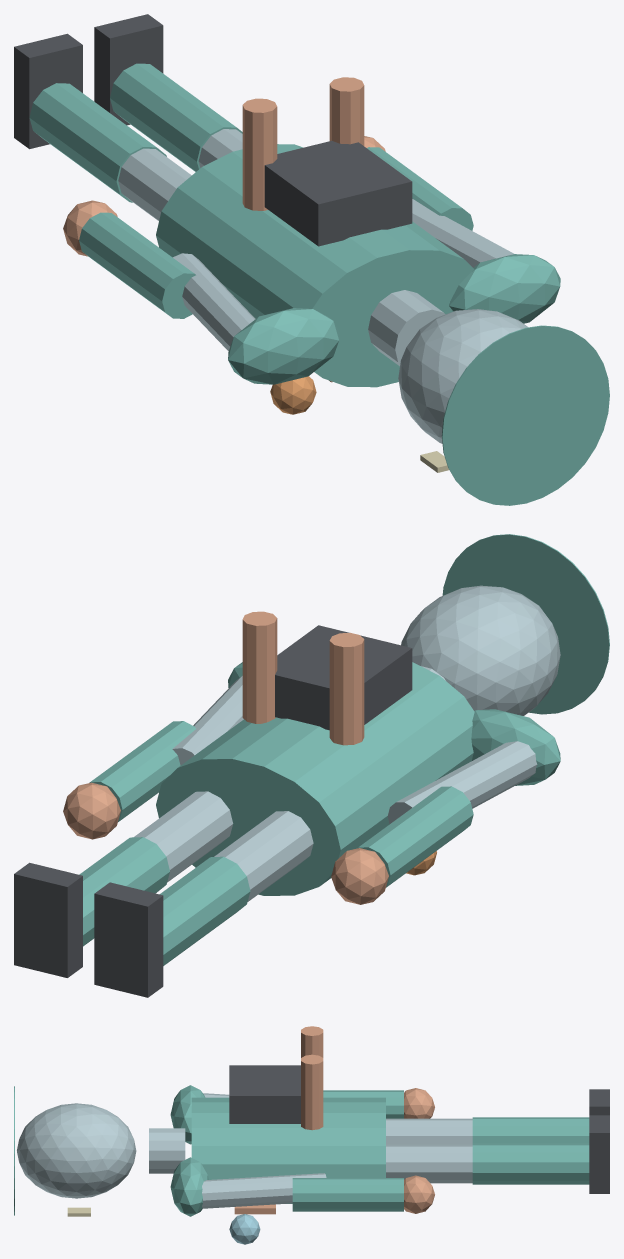
File: SWN-035_jun_glasswake.glb
3 views of the same model, one above another, from view 1: azimuth 30°, elevation 25°; view 2: azimuth 150°, elevation 25°; view 3: azimuth 270°, elevation 25° (orthographic). The views are drawn at different scales.
Visible parts, largest first — view 1: body_spine, rank_halo_ring, back_thruster_pack, head, greave_-1, greave_1, shoulder_plate_-1, forearm_gauntlet_-1, shoulder_plate_1, boot_-1, boot_1, upper_arm_-1 (+9 smaller); view 2: body_spine, head, rank_halo_ring, back_thruster_pack, boot_-1, boot_1, greave_-1, forearm_gauntlet_-1, thigh_1, thigh_-1, upper_arm_-1, forearm_gauntlet_1 (+7 smaller); view 3: body_spine, head, greave_1, back_thruster_pack, forearm_gauntlet_1, thigh_1, greave_-1, upper_arm_1, thigh_-1, aether_thruster_1, boot_1, shoulder_plate_1 (+9 smaller).
Boxes of the visible parts, box(x1,y1,x2,y2) form: body_spine: box(156, 144, 474, 387); rank_halo_ring: box(441, 325, 609, 505); back_thruster_pack: box(264, 141, 412, 246); head: box(398, 309, 527, 443); greave_-1: box(29, 83, 166, 202); greave_1: box(110, 63, 242, 171); shoulder_plate_-1: box(228, 308, 339, 384); forearm_gauntlet_-1: box(79, 212, 195, 318); shoulder_plate_1: box(449, 254, 560, 323); boot_-1: box(14, 33, 82, 149); boot_1: box(94, 14, 163, 125); upper_arm_-1: box(173, 253, 255, 350); body_spine: box(156, 662, 474, 895); head: box(401, 585, 560, 715); rank_halo_ring: box(442, 534, 609, 714); back_thruster_pack: box(275, 625, 412, 730); boot_-1: box(94, 882, 163, 997); boot_1: box(14, 862, 82, 977); greave_-1: box(159, 856, 250, 965); forearm_gauntlet_-1: box(357, 786, 473, 887); thigh_1: box(134, 791, 233, 882); thigh_-1: box(214, 811, 313, 901); upper_arm_-1: box(387, 741, 537, 824); forearm_gauntlet_1: box(89, 721, 196, 821); body_spine: box(191, 1097, 385, 1203); head: box(17, 1103, 136, 1198); greave_1: box(472, 1143, 589, 1184); back_thruster_pack: box(229, 1065, 300, 1123); forearm_gauntlet_1: box(292, 1178, 403, 1211); thigh_1: box(386, 1144, 472, 1183); greave_-1: box(472, 1117, 589, 1143); upper_arm_1: box(202, 1173, 326, 1208); thigh_-1: box(386, 1118, 472, 1144); aether_thruster_1: box(301, 1054, 323, 1130); boot_1: box(589, 1115, 609, 1193); shoulder_plate_1: box(170, 1157, 208, 1216).
Bounding box in the file's own units: 0.9932 × 0.76 × 2.3.
